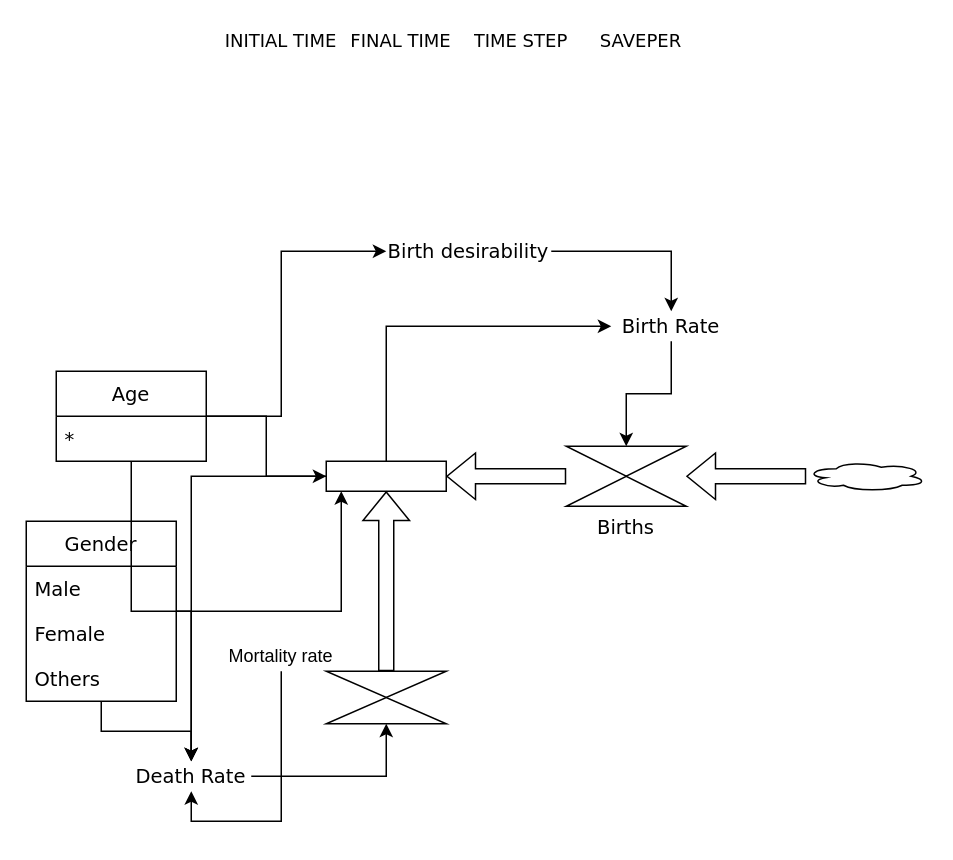
Image size: 953x860. Some labels were removed from this diagram. Each missing label, with the centre of its shape:
"Deaths" goes at (385,697).
"Population" goes at (385,475).
